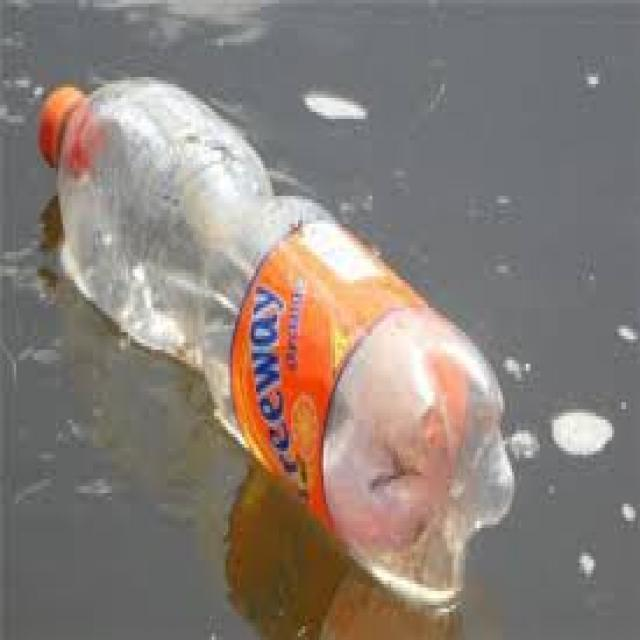Plastic: (37, 74, 515, 610)
